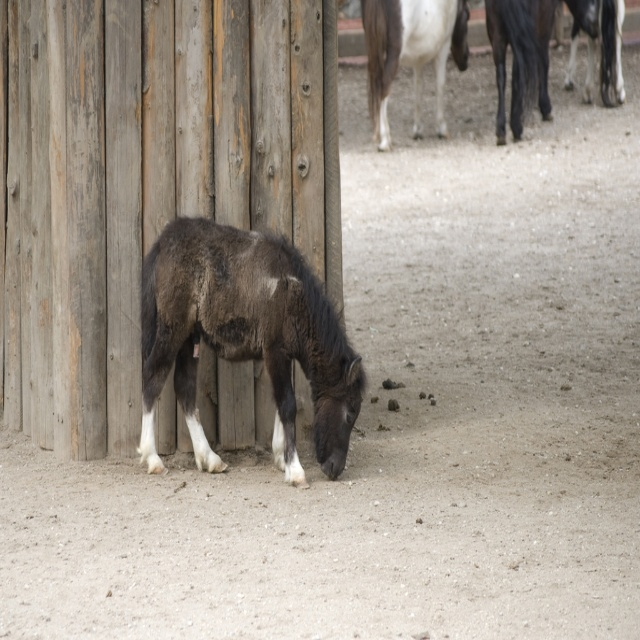Horse: (359, 0, 470, 154), (482, 0, 558, 146), (566, 0, 627, 109)
